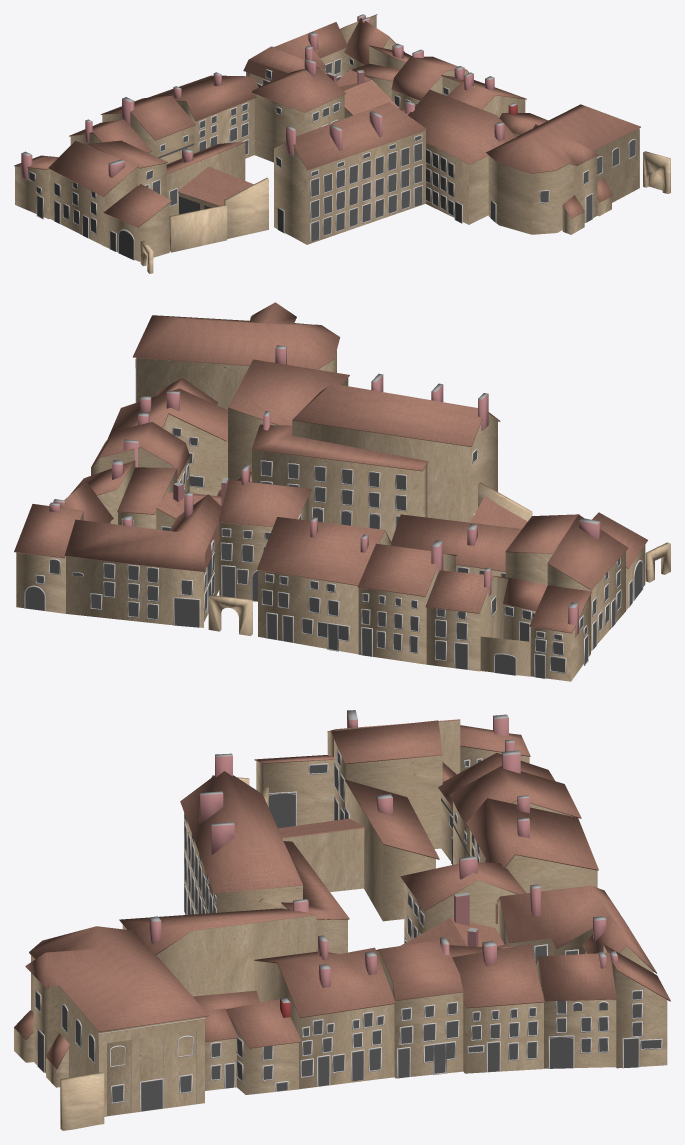
The model's file is ilot30combine.fbx.
The picture shows the model from 3 angles, top to bottom: view 1: azimuth 30°, elevation 25°; view 2: azimuth 150°, elevation 25°; view 3: azimuth 270°, elevation 25°; orthographic projection. The views are drawn at different scales.
Parts seen in each view (by area): view 1: _ILOT30BAT4, _ILOT30BAT3, _ILOT30BAT28, _ILOT30BAT2, _ILOT30BAT14, _ILOT30BAT22, _ILOT30BAT1, _ILOT30BAT23, _ILOT30BAT20, _ILOT30BAT9, _ILOT30BAT17, _ILOT30BAT18 (+14 smaller); view 2: _ILOT30BAT20, _ILOT30BAT4, _ILOT30BAT22, _ILOT30BAT3, _ILOT30BAT11, _ILOT30BAT23, _ILOT30BAT14, _ILOT30BAT33, _ILOT30BAT28, _ILOT30BAT18, _ILOT30BAT2, _ILOT30BAT15 (+15 smaller); view 3: _ILOT30BAT3, _ILOT30BAT18, _ILOT30BAT4, _ILOT30BAT28, _ILOT30BAT26, _ILOT30BAT17, _ILOT30BAT22, _ILOT30BAT10, _ILOT30BAT16, _ILOT30BAT20, _ILOT30BAT9, _ILOT30BAT14 (+15 smaller).
Boxes of the visible parts, box(x1,y1,x2,y2) form: _ILOT30BAT4: box(273, 102, 427, 244); _ILOT30BAT3: box(486, 104, 640, 234); _ILOT30BAT28: box(408, 90, 516, 224); _ILOT30BAT2: box(48, 140, 137, 246); _ILOT30BAT14: box(252, 59, 346, 162); _ILOT30BAT22: box(147, 72, 258, 158); _ILOT30BAT1: box(103, 184, 171, 261); _ILOT30BAT23: box(100, 96, 195, 163); _ILOT30BAT20: box(243, 22, 347, 86); _ILOT30BAT9: box(166, 141, 245, 215); _ILOT30BAT17: box(391, 49, 469, 109); _ILOT30BAT18: box(441, 66, 526, 117); _ILOT30BAT20: box(64, 492, 221, 627); _ILOT30BAT4: box(292, 373, 500, 522); _ILOT30BAT22: box(257, 517, 391, 654); _ILOT30BAT3: box(133, 302, 340, 409); _ILOT30BAT11: box(251, 411, 428, 543); _ILOT30BAT23: box(357, 540, 456, 664); _ILOT30BAT14: box(218, 464, 311, 601); _ILOT30BAT33: box(425, 567, 508, 671); _ILOT30BAT28: box(228, 345, 349, 480); _ILOT30BAT18: box(107, 388, 227, 495); _ILOT30BAT2: box(547, 514, 628, 651); _ILOT30BAT15: box(14, 502, 83, 613); _ILOT30BAT3: box(25, 926, 208, 1116); _ILOT30BAT18: box(254, 935, 395, 1089); _ILOT30BAT4: box(180, 753, 302, 914); _ILOT30BAT28: box(119, 908, 316, 996); _ILOT30BAT26: box(452, 941, 544, 1073); _ILOT30BAT17: box(376, 937, 463, 1078); _ILOT30BAT22: box(466, 795, 598, 892); _ILOT30BAT10: box(331, 720, 442, 848); _ILOT30BAT16: box(535, 951, 616, 1068); _ILOT30BAT20: box(495, 884, 656, 973); _ILOT30BAT9: box(344, 779, 439, 921); _ILOT30BAT14: box(400, 856, 526, 943).
Size of the model in its own units: 14.33 by 3.07 by 11.38.
